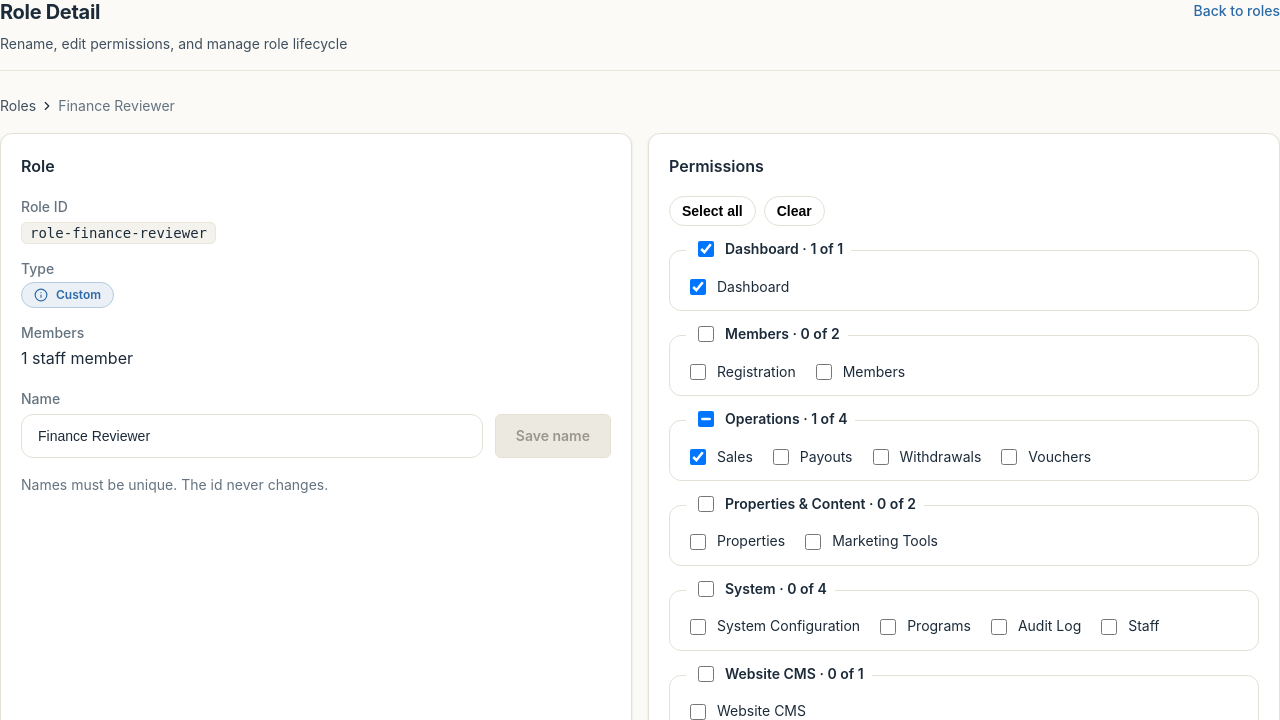
Test: RoleDetailPage › echoes the permission diff in the success toast
Click the checkbox labelled "Withdrawals". click: (880, 457)
box: left=872, top=449, right=888, bottom=465
(page scrolled)
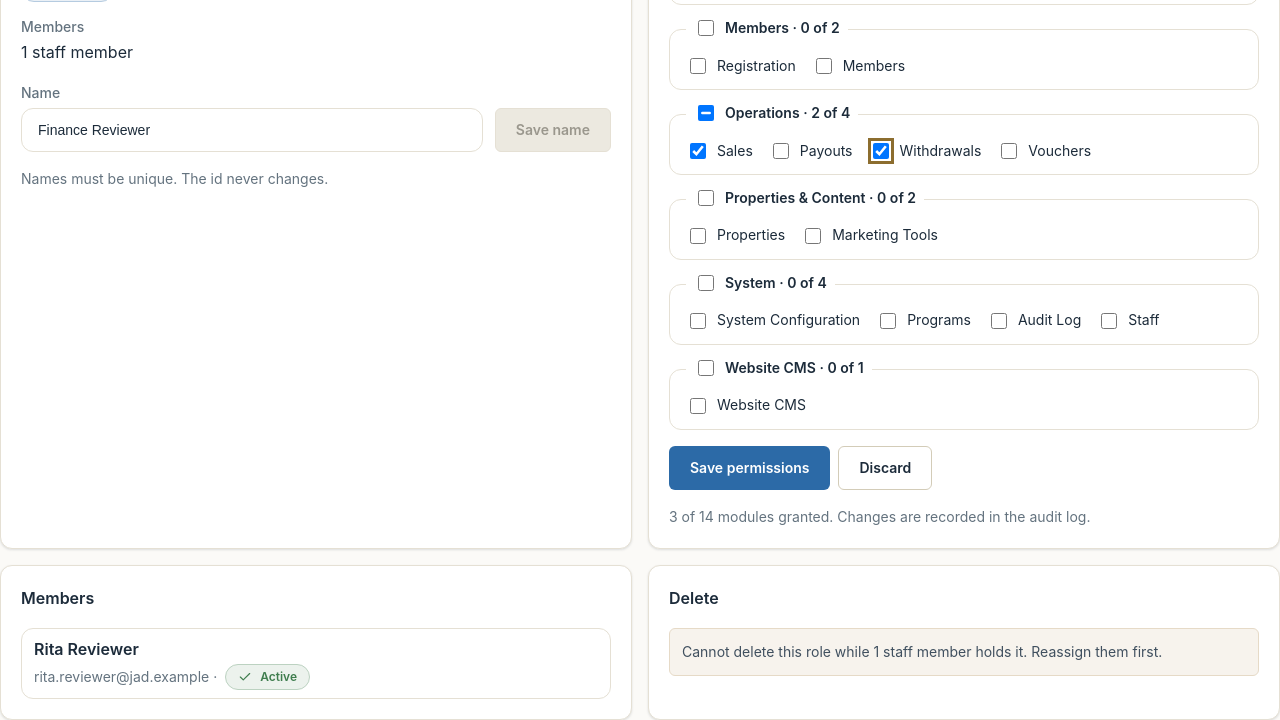
Click the button "Save permissions". click: (750, 468)
box: left=669, top=446, right=830, bottom=490
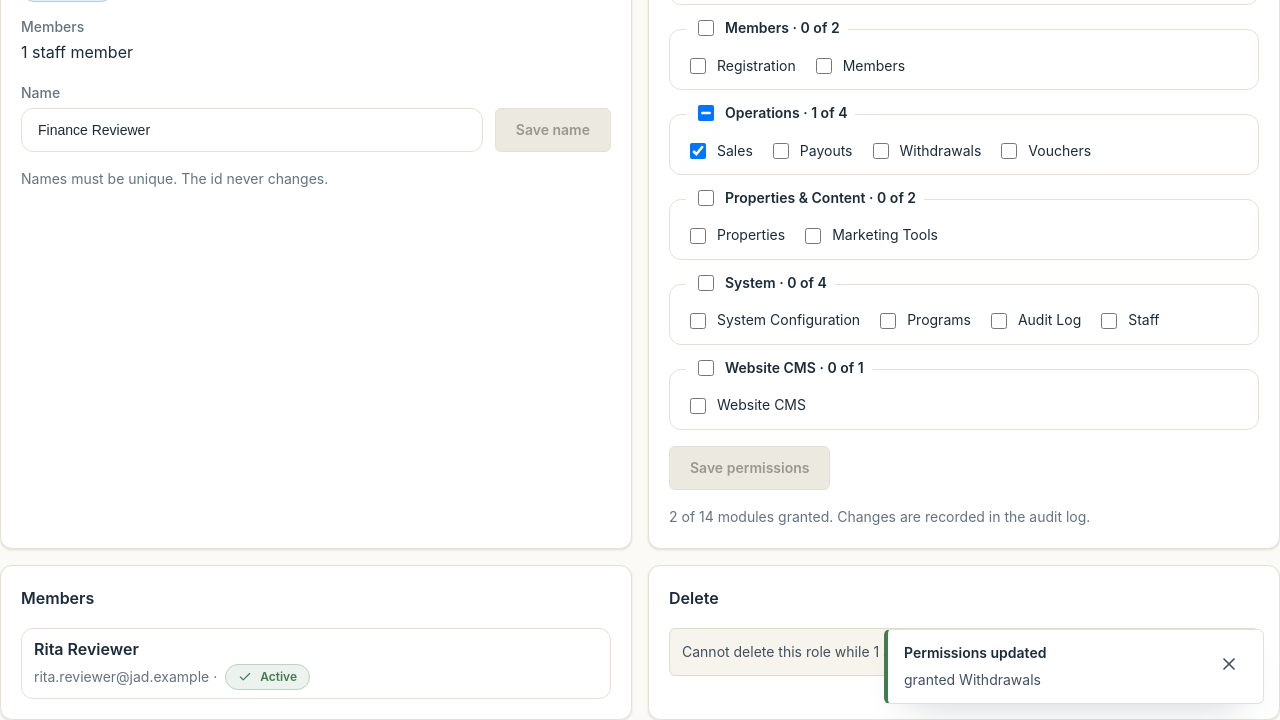
Now the text "granted Withdrawals" is shown, box left=904, top=669, right=1046, bottom=691
